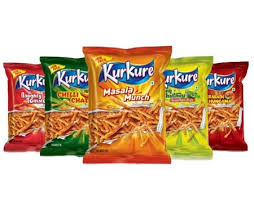kurkure: (101, 60, 156, 86)
plastic: (6, 59, 254, 151)
wrapper: (6, 70, 87, 142), (106, 56, 168, 150), (184, 68, 235, 146)
